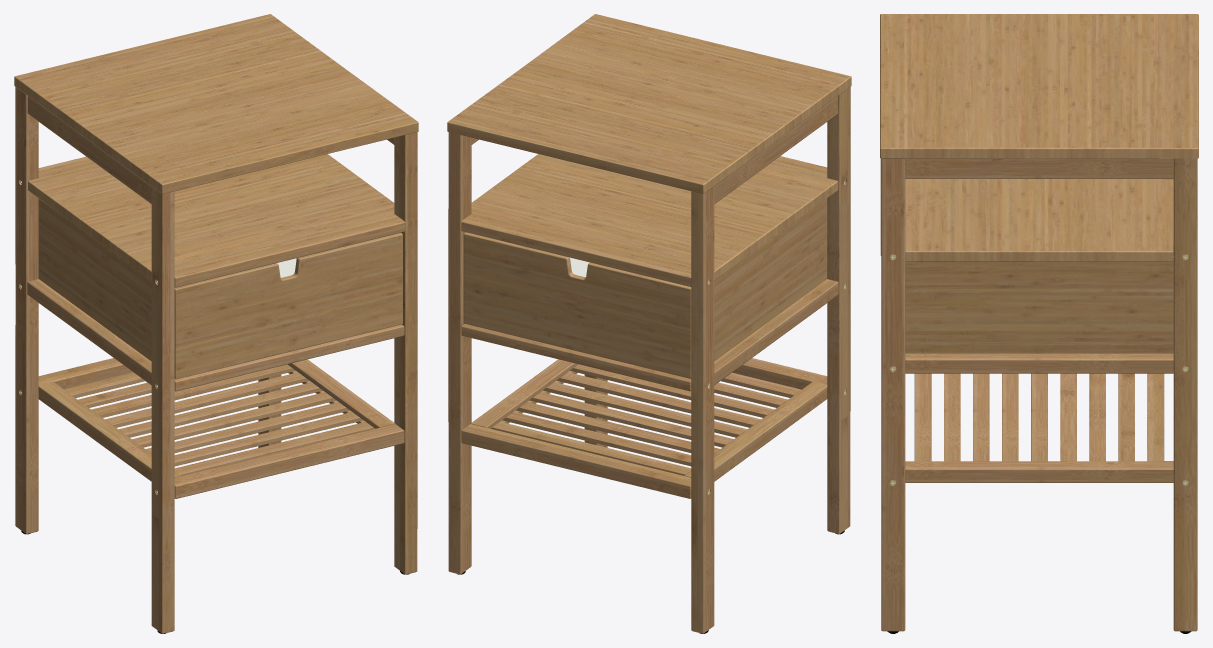
3 renders of one model, left to right at view 1: azimuth 30°, elevation 25°; view 2: azimuth 150°, elevation 25°; view 3: azimuth 270°, elevation 25°, orthographic. The views are drawn at different scales.
Parts seen in each view (by area): view 1: model; view 2: model; view 3: model.
Boxes of the visible parts, bbox=[...] form: model: bbox=[14, 14, 418, 633]; model: bbox=[447, 14, 851, 633]; model: bbox=[880, 14, 1198, 633].
Size of the model in its own units: 0.4 by 0.675 by 0.4.
Materials: 1 (1 with a texture image).
